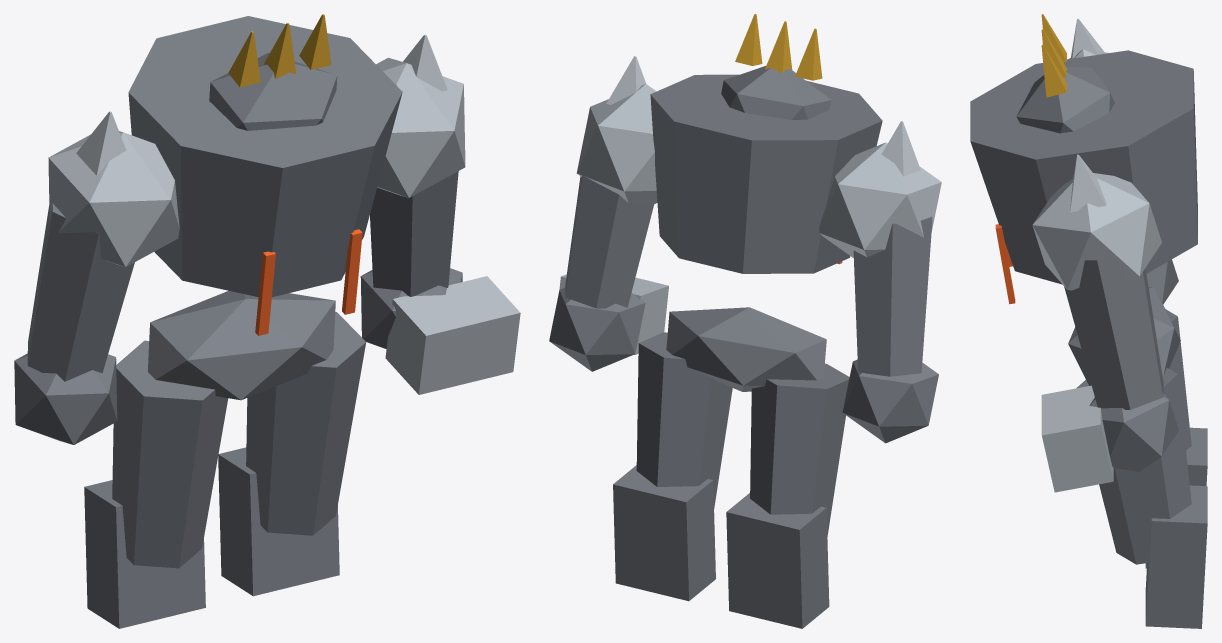
The model's file is npcpose_colossus_attack_09.glb.
The picture shows the model from 3 angles, left to right: view 1: azimuth 30°, elevation 25°; view 2: azimuth 150°, elevation 25°; view 3: azimuth 270°, elevation 25°; orthographic projection. The views are drawn at different scales.
Visible parts, largest first — view 1: npcpose; view 2: npcpose; view 3: npcpose.
Boxes of the visible parts, x1,y1,x2,y2 form: npcpose: (14, 14, 520, 628); npcpose: (549, 14, 941, 628); npcpose: (970, 14, 1207, 628).
Size of the model in its own units: 2.3 by 3.03 by 1.18.
